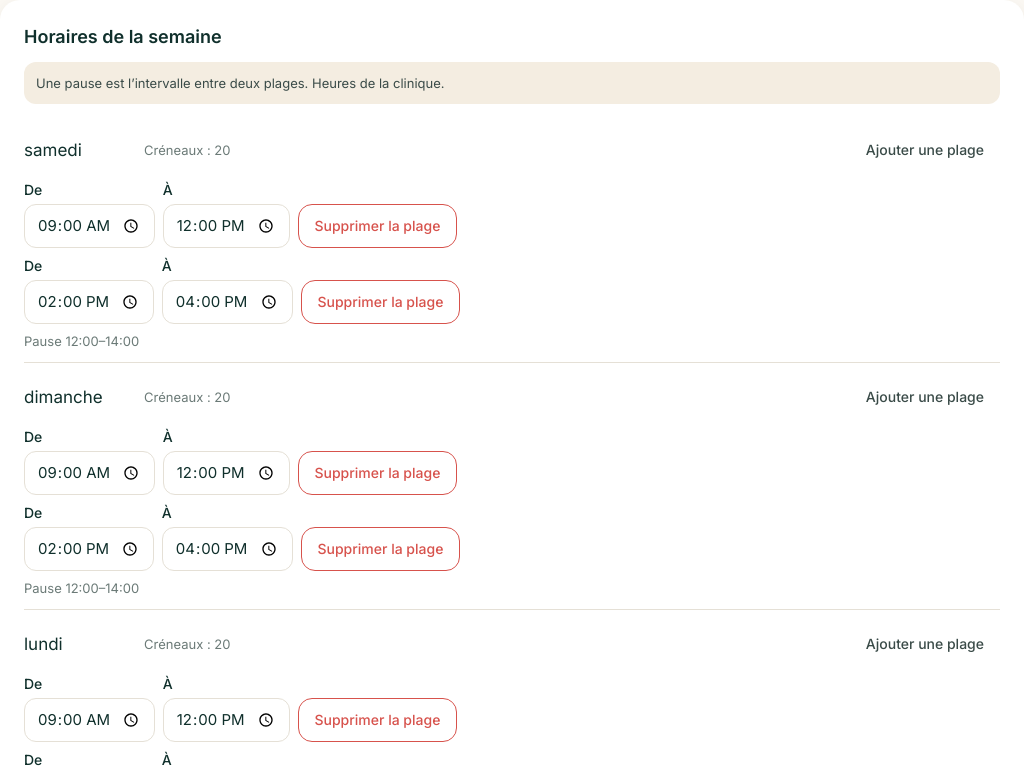
Test: Availability page › refuses overlapping periods before sending anything
The image size is (1024, 768).
Replace the text in the time field named "À · lundi 1" with "15:00": (226, 720) [163,698,290,742]
(page scrolled)
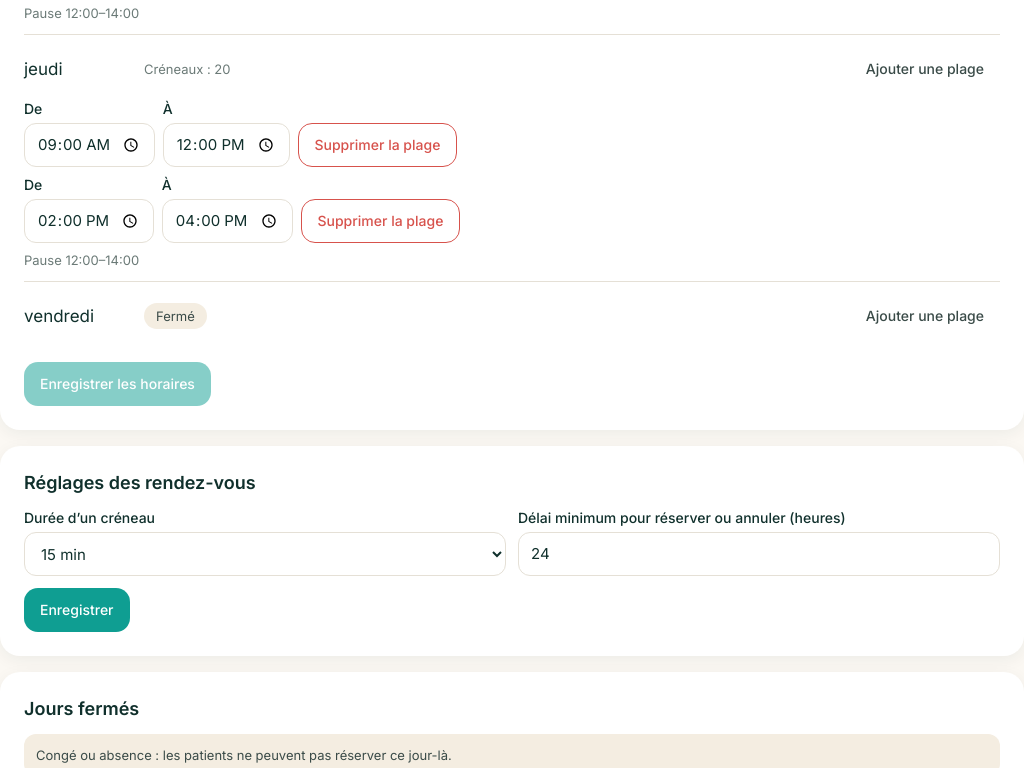
Expected: the button "Enregistrer les horaires" is disabled, [24,362,211,406]
